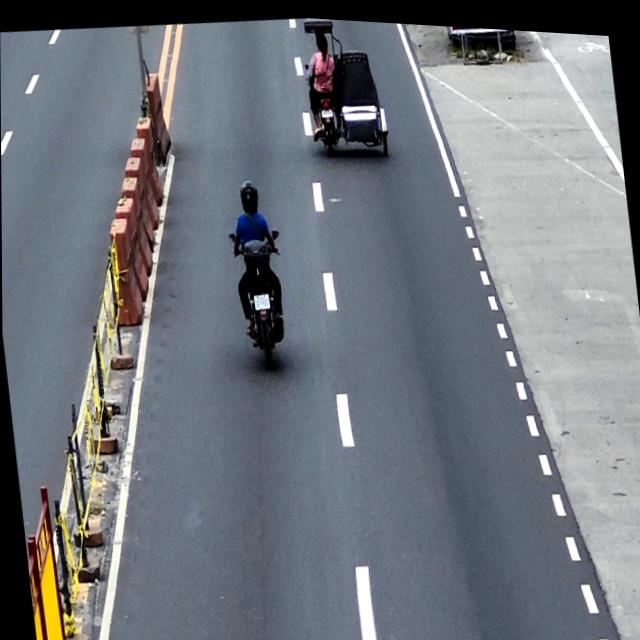License-Plate: (252, 289, 270, 308), (321, 103, 333, 114)
Motorcycle: (228, 221, 294, 372)
Tricycle: (298, 14, 391, 158)
